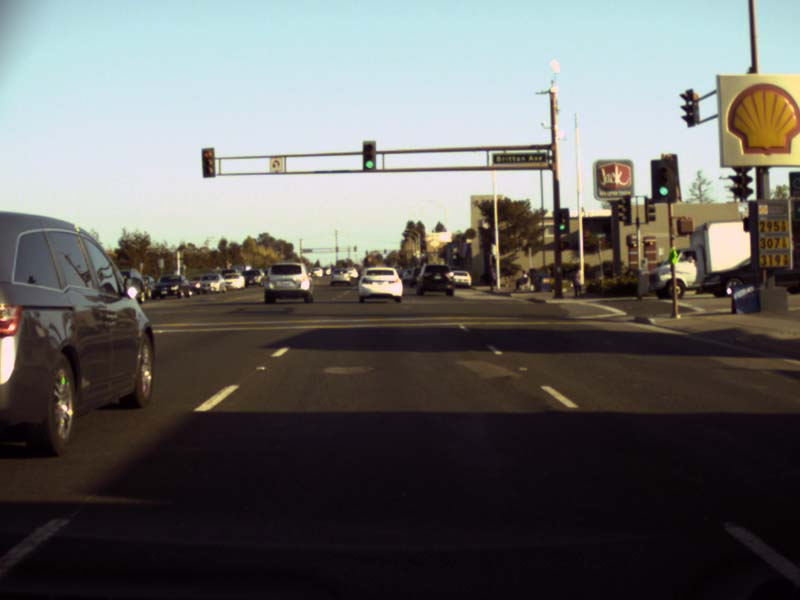Green: (650, 159, 673, 203), (362, 140, 376, 170), (556, 207, 569, 233)
Red: (201, 147, 215, 177)
